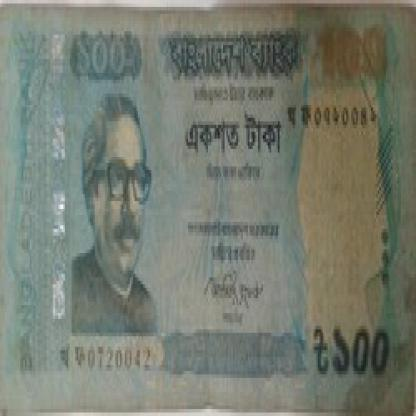Ten Taka: (65, 28, 141, 86)
one hundred taka: (316, 17, 393, 87), (330, 315, 400, 385), (65, 28, 143, 86)
